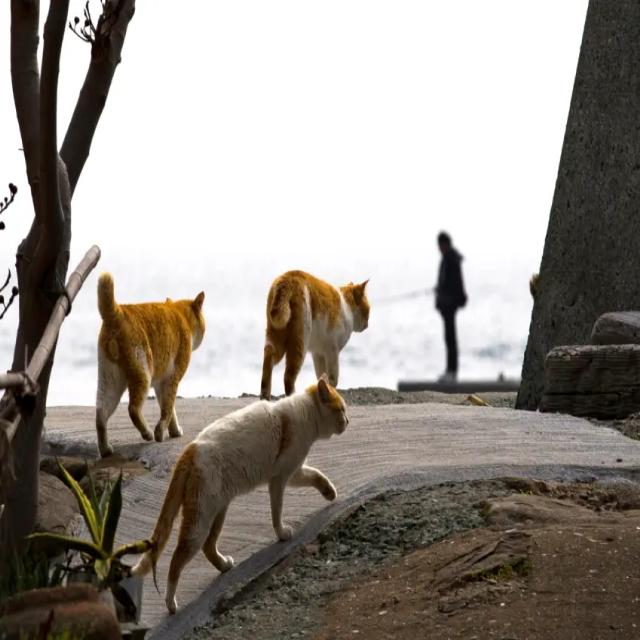cat: (132, 375, 348, 613), (96, 273, 204, 456), (260, 271, 370, 399)
